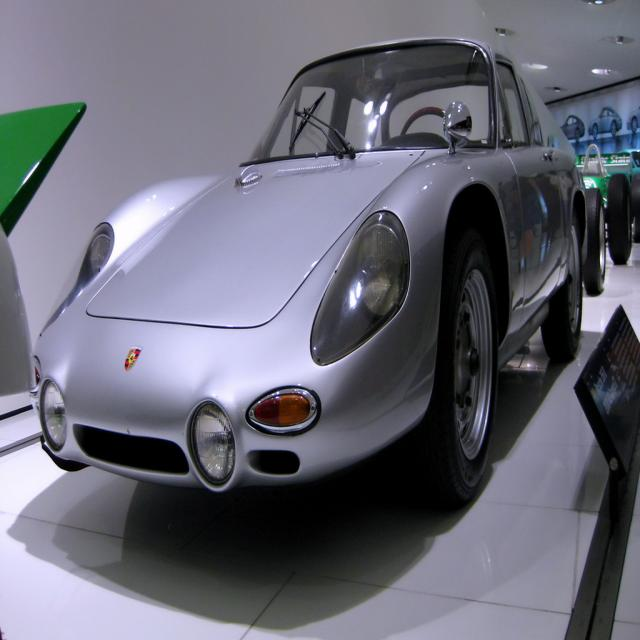car: (28, 29, 588, 506)
